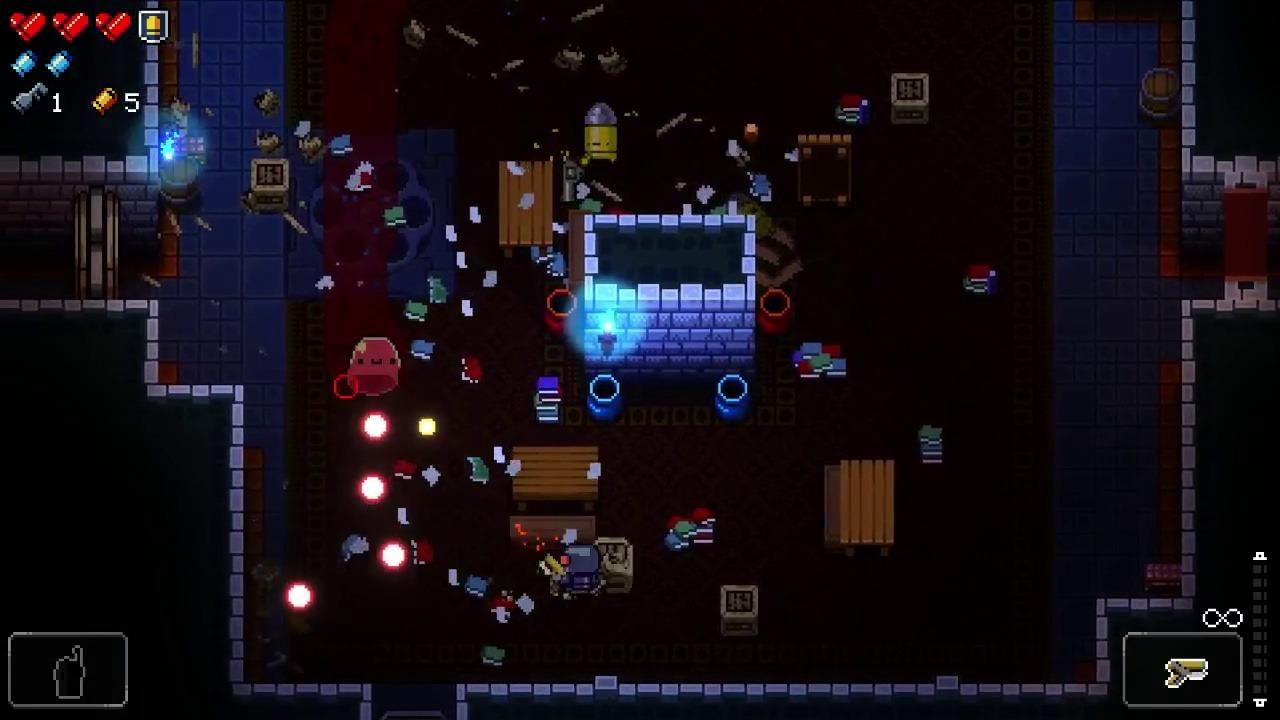blobulon_l: (348, 336, 402, 397)
blocked_door: (1224, 175, 1269, 298)
bullet: (357, 472, 388, 506), (284, 580, 315, 613), (361, 410, 391, 444), (379, 540, 408, 572)
bullet_kin: (584, 103, 618, 163)
locked_door: (76, 186, 120, 300)
player: (562, 544, 602, 601)
table: (511, 447, 601, 512), (841, 461, 895, 557), (500, 162, 554, 256), (796, 134, 852, 210)
teleporter: (285, 128, 455, 298)
wall: (583, 214, 756, 382)
